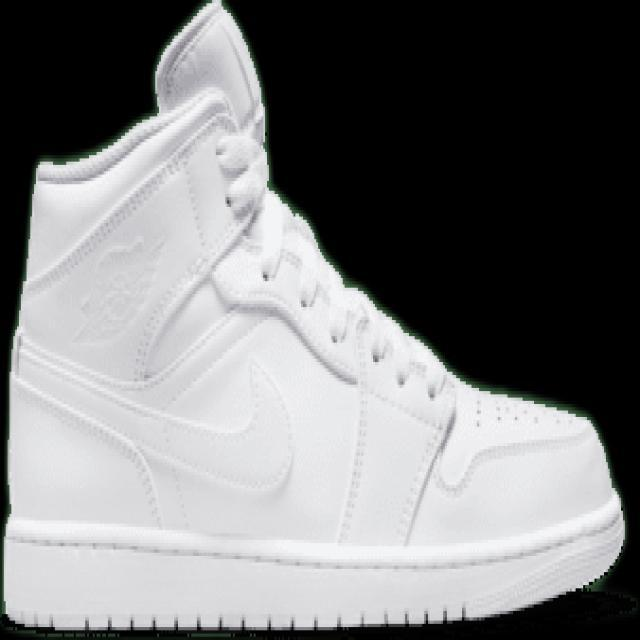J1_ShoeLogo: (2, 0, 626, 632)
J1_StitchPattern: (264, 242, 578, 431), (265, 241, 457, 542), (26, 95, 264, 296), (130, 129, 270, 381), (11, 330, 168, 529), (269, 245, 448, 406), (332, 394, 456, 545), (6, 604, 475, 632), (287, 264, 396, 374), (334, 318, 374, 544), (398, 406, 457, 546), (467, 386, 587, 434), (214, 130, 268, 220), (470, 391, 542, 430)
